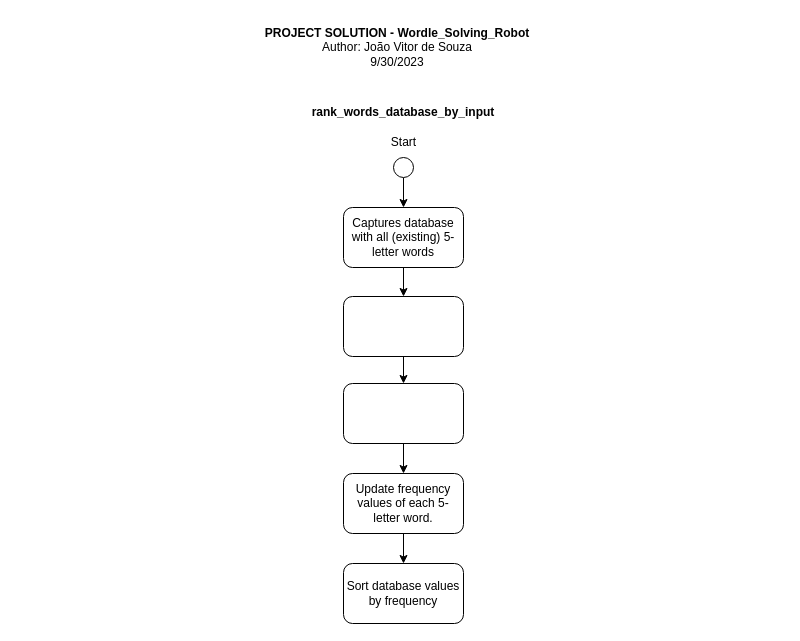
The diagram is 800 pixels wide and 641 high, and some of its shapes have lost their labels. Each missing label, with the centre of its shape:
For each (existsing) 5-letter word, count how many times it appears on the text.: [403,413]
Read pdf file with all text.: [403,326]
